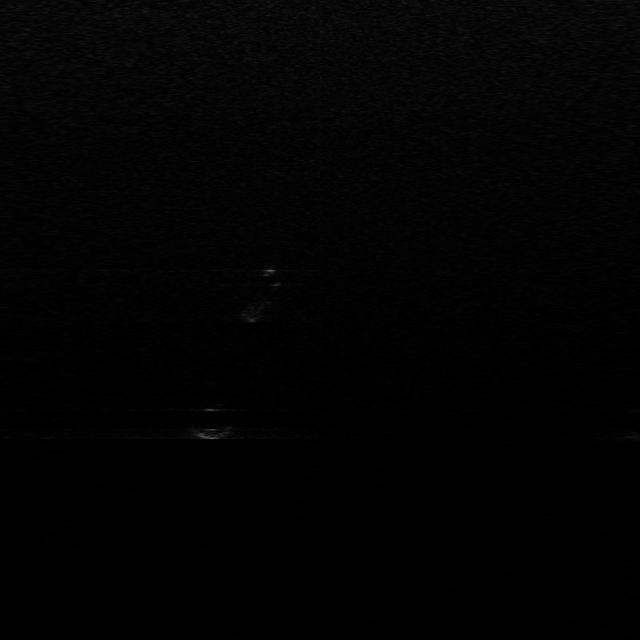ball: (187, 401, 238, 439)
tyre: (240, 267, 280, 322)
